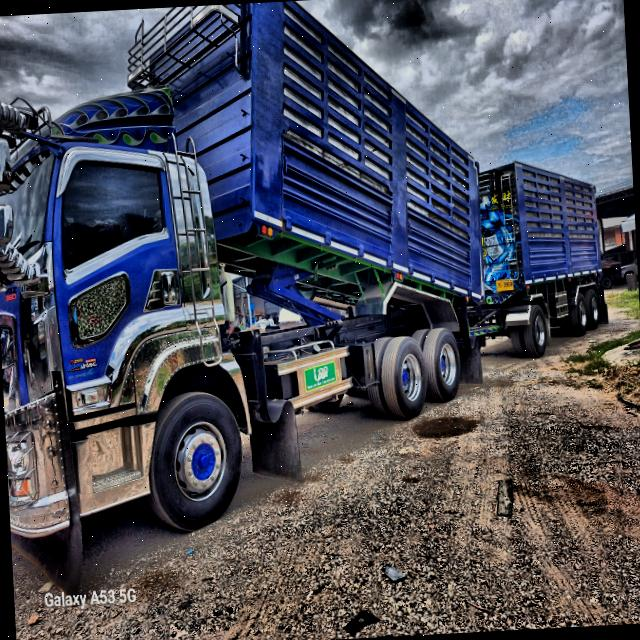trailer: (0, 0, 615, 549)
